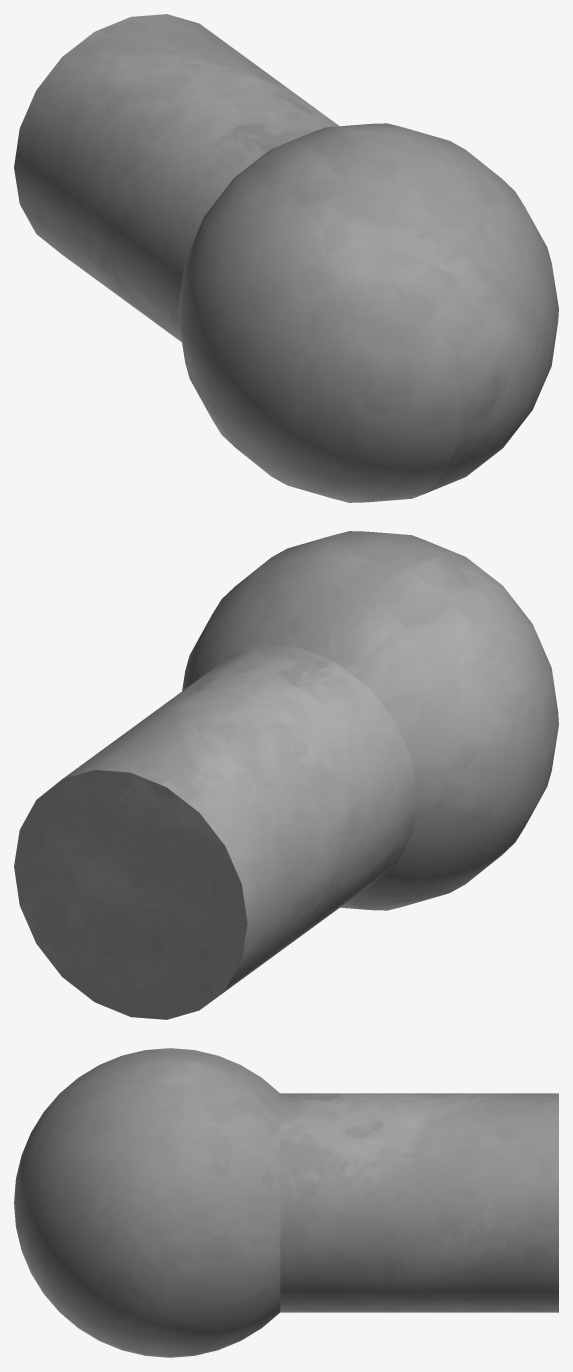
Rendered from doorKnob.fbx.
The picture shows the model from 3 angles, top to bottom: view 1: azimuth 30°, elevation 25°; view 2: azimuth 150°, elevation 25°; view 3: azimuth 270°, elevation 25°; orthographic projection. The views are drawn at different scales.
Parts seen in each view (by area): view 1: pSphere2; view 2: pSphere2; view 3: pSphere2.
Part boxes in pixels (x1,y1,x2,y2): pSphere2: (14, 14, 558, 502); pSphere2: (14, 531, 558, 1019); pSphere2: (14, 1048, 558, 1357).
Size of the model in its own units: 11.5 by 11.5 by 20.09.
1 material, 1 textured.
